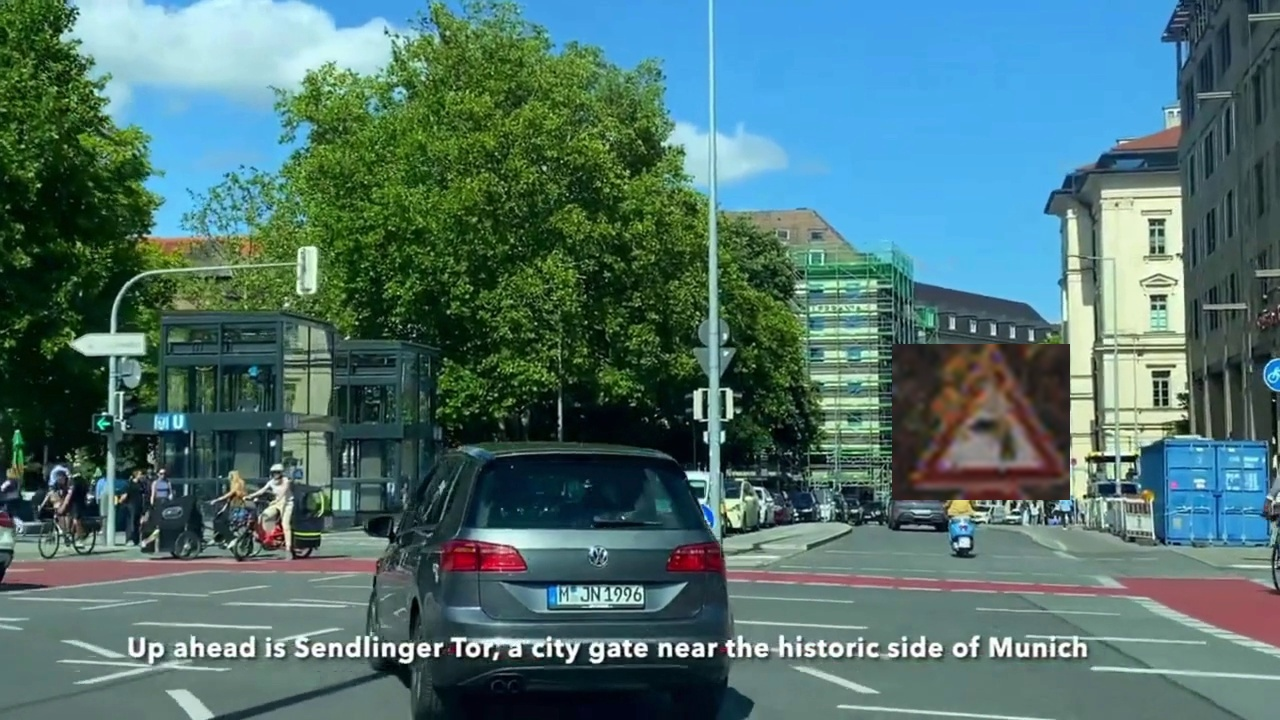Curve left: (892, 344, 1070, 500)
